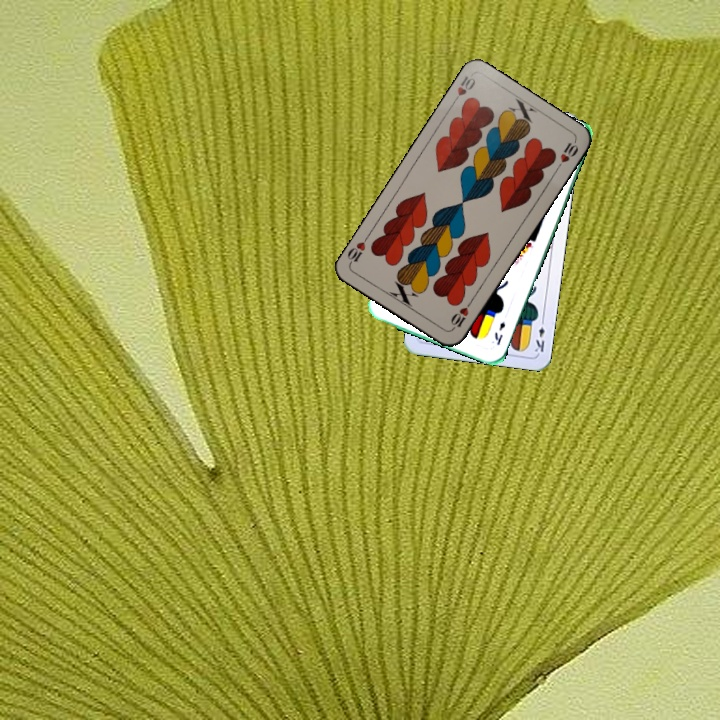EK: (531, 314, 547, 354), (490, 317, 508, 347)
H10: (448, 71, 478, 107), (446, 296, 475, 332)
